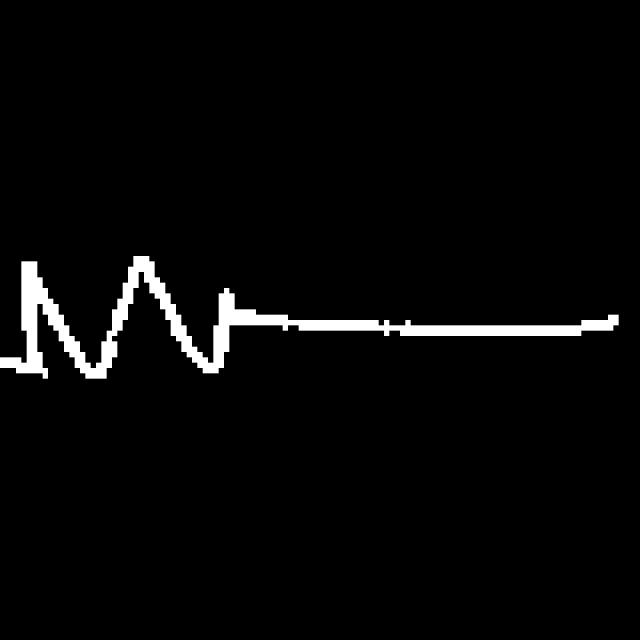resistor: (9, 248, 289, 409)
